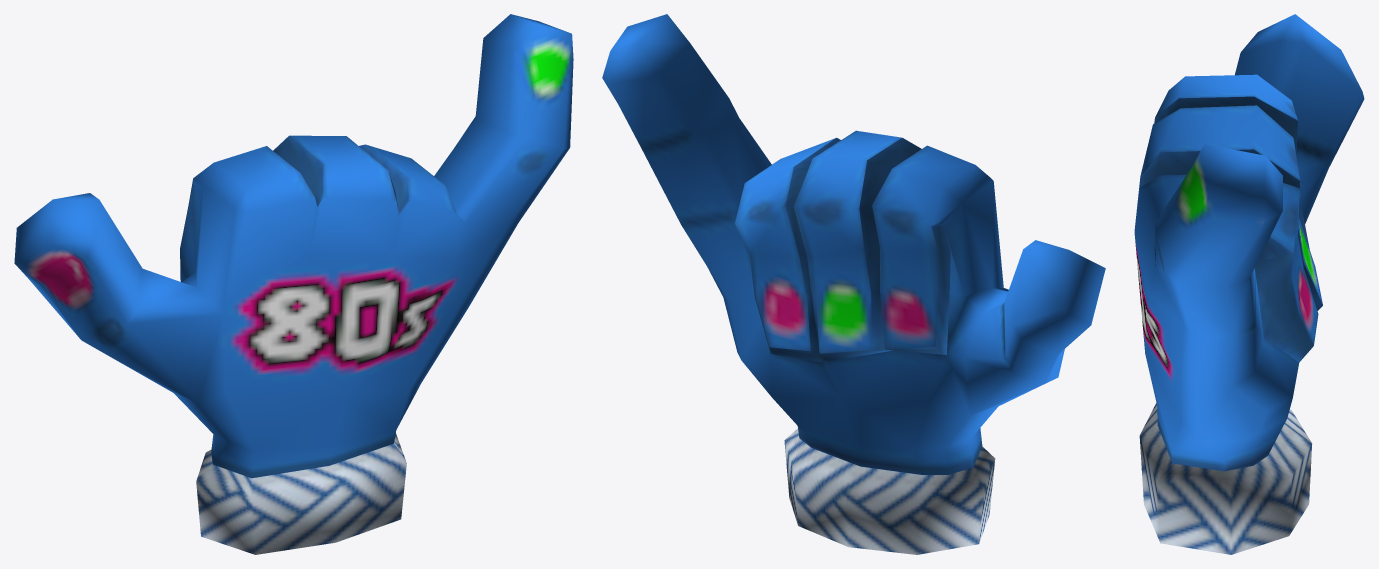
The model's file is gh.icn.obj.
3 views of the same model, side by side, from view 1: azimuth 30°, elevation 25°; view 2: azimuth 150°, elevation 25°; view 3: azimuth 270°, elevation 25° (orthographic). The views are drawn at different scales.
Bounding box in the file's own units: 4.81 × 3.94 × 1.7.
1 material, 1 textured.
